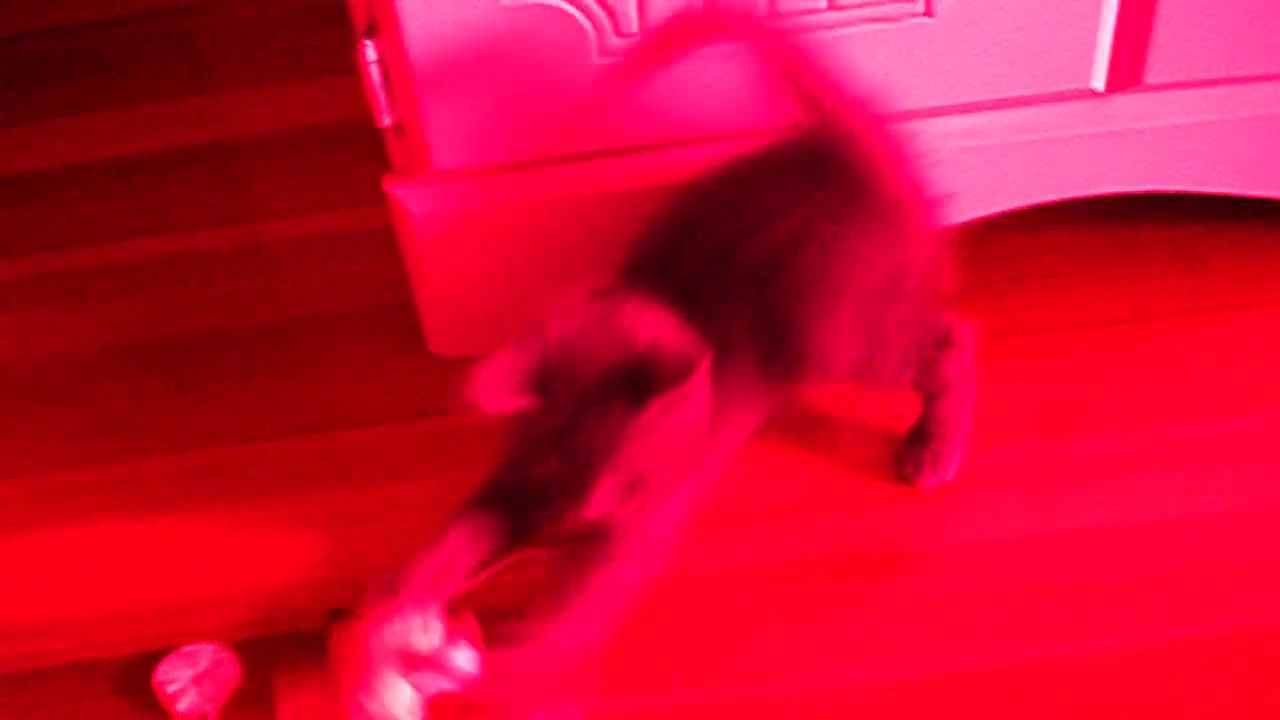cat: (392, 4, 996, 656)
